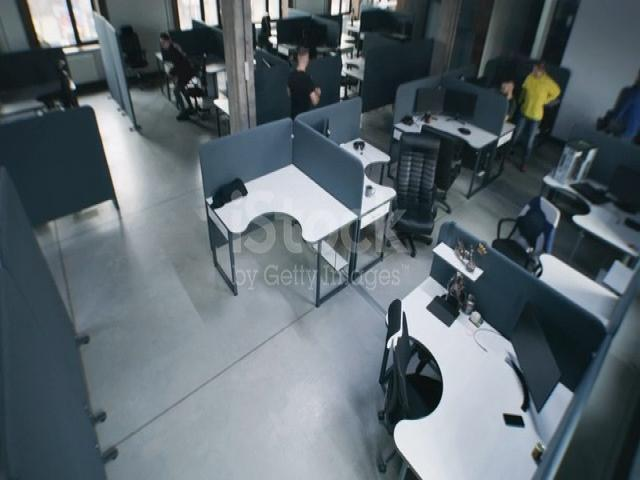empty chair: (371, 291, 447, 480), (492, 178, 552, 279), (396, 141, 440, 257), (417, 120, 461, 229), (46, 52, 96, 135), (176, 50, 214, 139), (116, 10, 152, 103), (338, 63, 365, 109)
occupiedchair: (487, 59, 524, 166), (585, 92, 639, 146)
